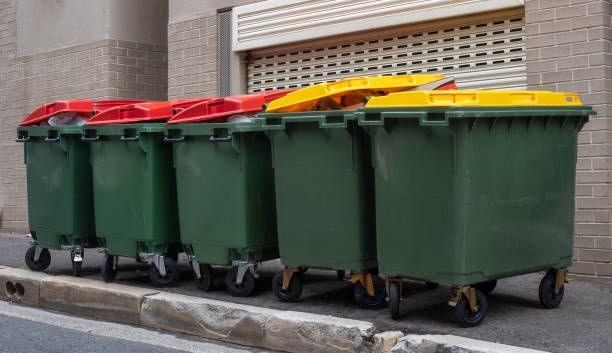partial: (10, 57, 589, 308)
